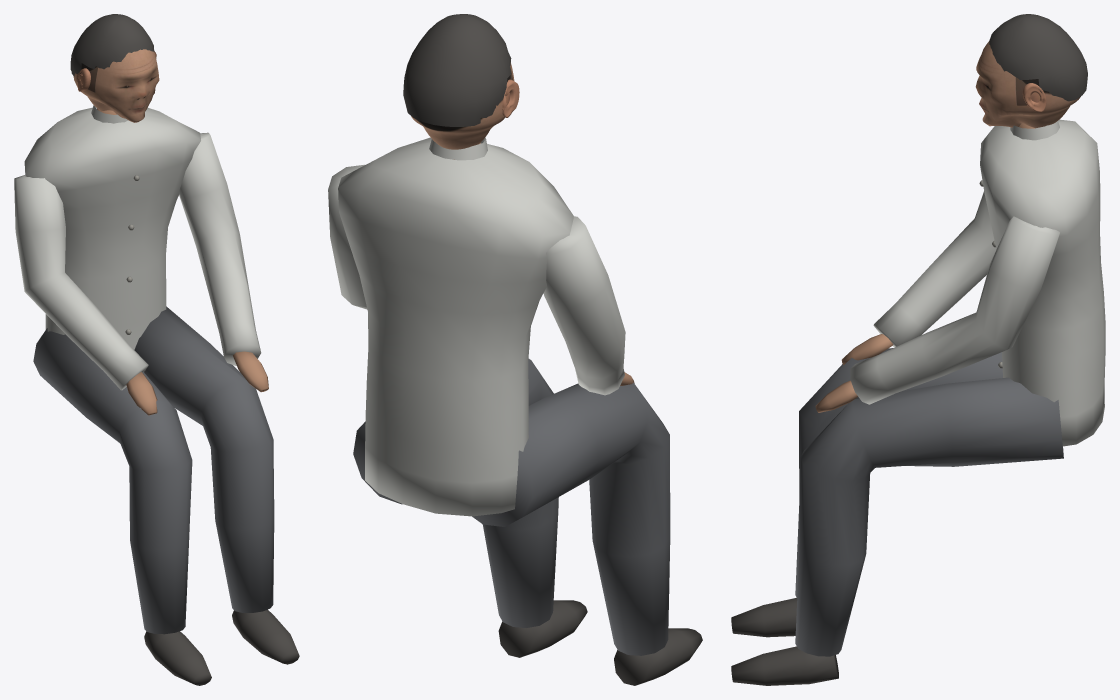
File: guest_b.glb
3 renders of one model, left to right at view 1: azimuth 30°, elevation 25°; view 2: azimuth 150°, elevation 25°; view 3: azimuth 270°, elevation 25°, orthographic. The views are drawn at different scales.
Visible parts, largest first — view 1: GTorso, GLegR, GLegL, GSleeveL, GSleeveR, Head, GHairShell, GFootL, GFootR, GHandR, GHandL; view 2: GTorso, GLegL, GHairShell, GSleeveL, GLegR, GFootL, GFootR, GSleeveR, Head, GCollar; view 3: GLegR, GTorso, GSleeveR, GSleeveL, GHairShell, Head, GLegL, GFootR, GFootL, GHandL, GHandR, GCollar.
Part boxes in pixels (x1=…): GTorso: x1=24, y1=107, x2=200, y2=349; GLegR: x1=134, y1=306, x2=274, y2=612; GLegL: x1=33, y1=328, x2=192, y2=634; GSleeveL: x1=14, y1=174, x2=148, y2=390; GSleeveR: x1=179, y1=132, x2=261, y2=365; Head: x1=73, y1=49, x2=159, y2=122; GHairShell: x1=70, y1=14, x2=154, y2=76; GFootL: x1=144, y1=631, x2=211, y2=685; GFootR: x1=232, y1=609, x2=299, y2=664; GHandR: x1=233, y1=351, x2=268, y2=392; GHandL: x1=126, y1=372, x2=157, y2=415; GTorso: x1=338, y1=137, x2=573, y2=516; GLegL: x1=472, y1=382, x2=670, y2=655; GHairShell: x1=403, y1=14, x2=511, y2=126; GSleeveL: x1=543, y1=216, x2=625, y2=395; GLegR: x1=353, y1=358, x2=558, y2=627; GFootL: x1=614, y1=628, x2=702, y2=685; GFootR: x1=498, y1=600, x2=587, y2=657; GSleeveR: x1=328, y1=164, x2=367, y2=309; Head: x1=411, y1=62, x2=514, y2=149; GCollar: x1=429, y1=138, x2=487, y2=160; GLegR: x1=795, y1=377, x2=1063, y2=656; GTorso: x1=980, y1=119, x2=1105, y2=446; GSleeveR: x1=850, y1=216, x2=1059, y2=404; GSleeveL: x1=873, y1=191, x2=996, y2=347; GHairShell: x1=989, y1=14, x2=1087, y2=101; Head: x1=975, y1=41, x2=1080, y2=128; GLegL: x1=795, y1=348, x2=1002, y2=597; GFootR: x1=731, y1=646, x2=838, y2=685; GFootL: x1=731, y1=598, x2=797, y2=637; GHandL: x1=841, y1=334, x2=893, y2=364; GHandR: x1=815, y1=380, x2=857, y2=412; GCollar: x1=1010, y1=121, x2=1059, y2=140.
Bounding box in the file's own units: 0.4666 × 1.19 × 0.6298.
7 materials, 1 textured.
